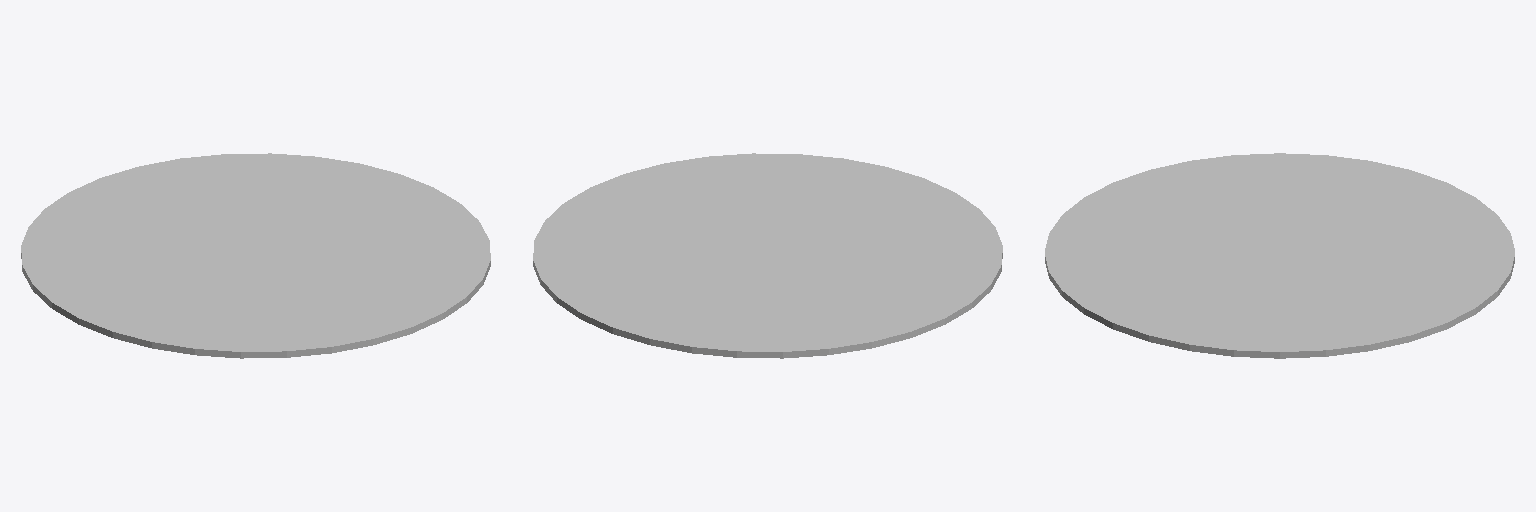
Rendered from SM_CircleChao_001.obj.
3 views of the same model, side by side, from view 1: azimuth 30°, elevation 25°; view 2: azimuth 150°, elevation 25°; view 3: azimuth 270°, elevation 25° (orthographic).
Visible parts, largest first — view 1: CircleChão_Circle; view 2: CircleChão_Circle; view 3: CircleChão_Circle.
Part boxes in pixels (bbox=[...]): CircleChão_Circle: bbox=[21, 153, 490, 358]; CircleChão_Circle: bbox=[533, 153, 1002, 358]; CircleChão_Circle: bbox=[1045, 153, 1514, 358].
Bounding box in the file's own units: 8 × 0.1216 × 8.